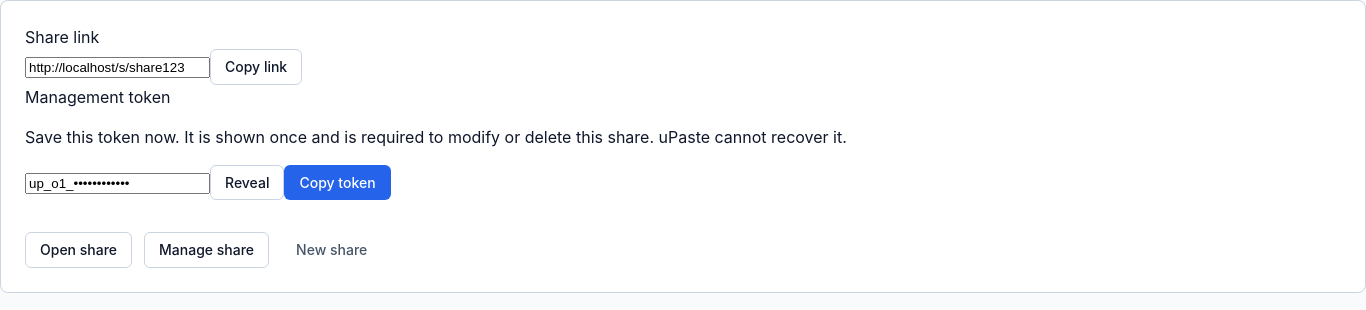
Test: CreationSuccess › toggles token masking when clicking Reveal/Hide
Click the button "Reveal": (247, 182) [210, 164, 284, 200]
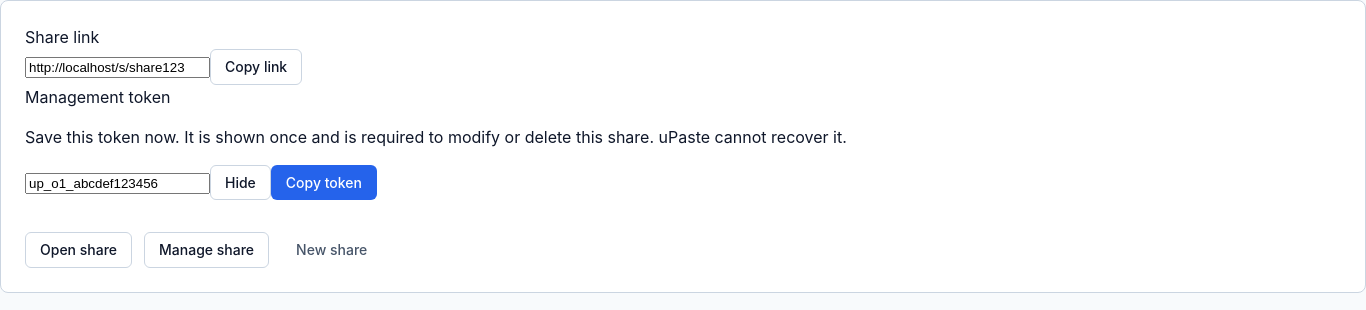
Now the field labelled "Management token" holds "up_o1_abcdef123456", box [25, 172, 210, 194]
Click the button "Hide": (240, 182) [210, 164, 271, 200]
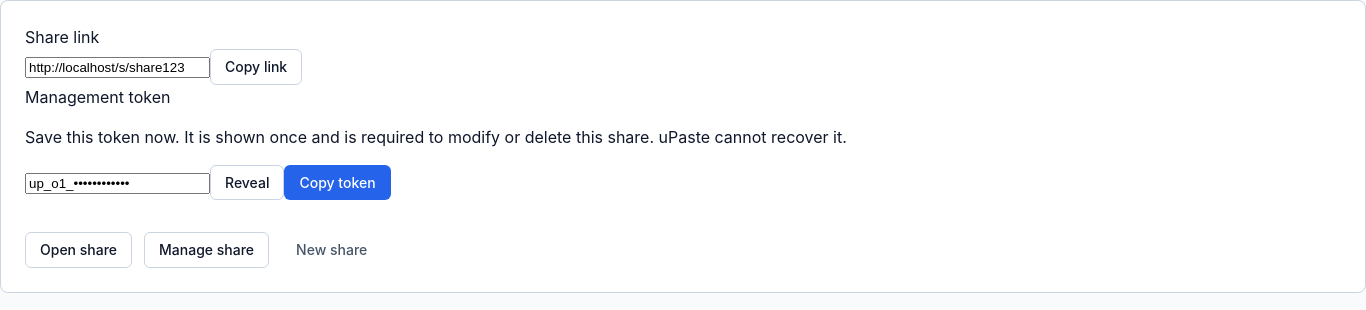
Now the field labelled "Management token" holds "up_o1_••••••••••••", box [25, 172, 210, 194]
